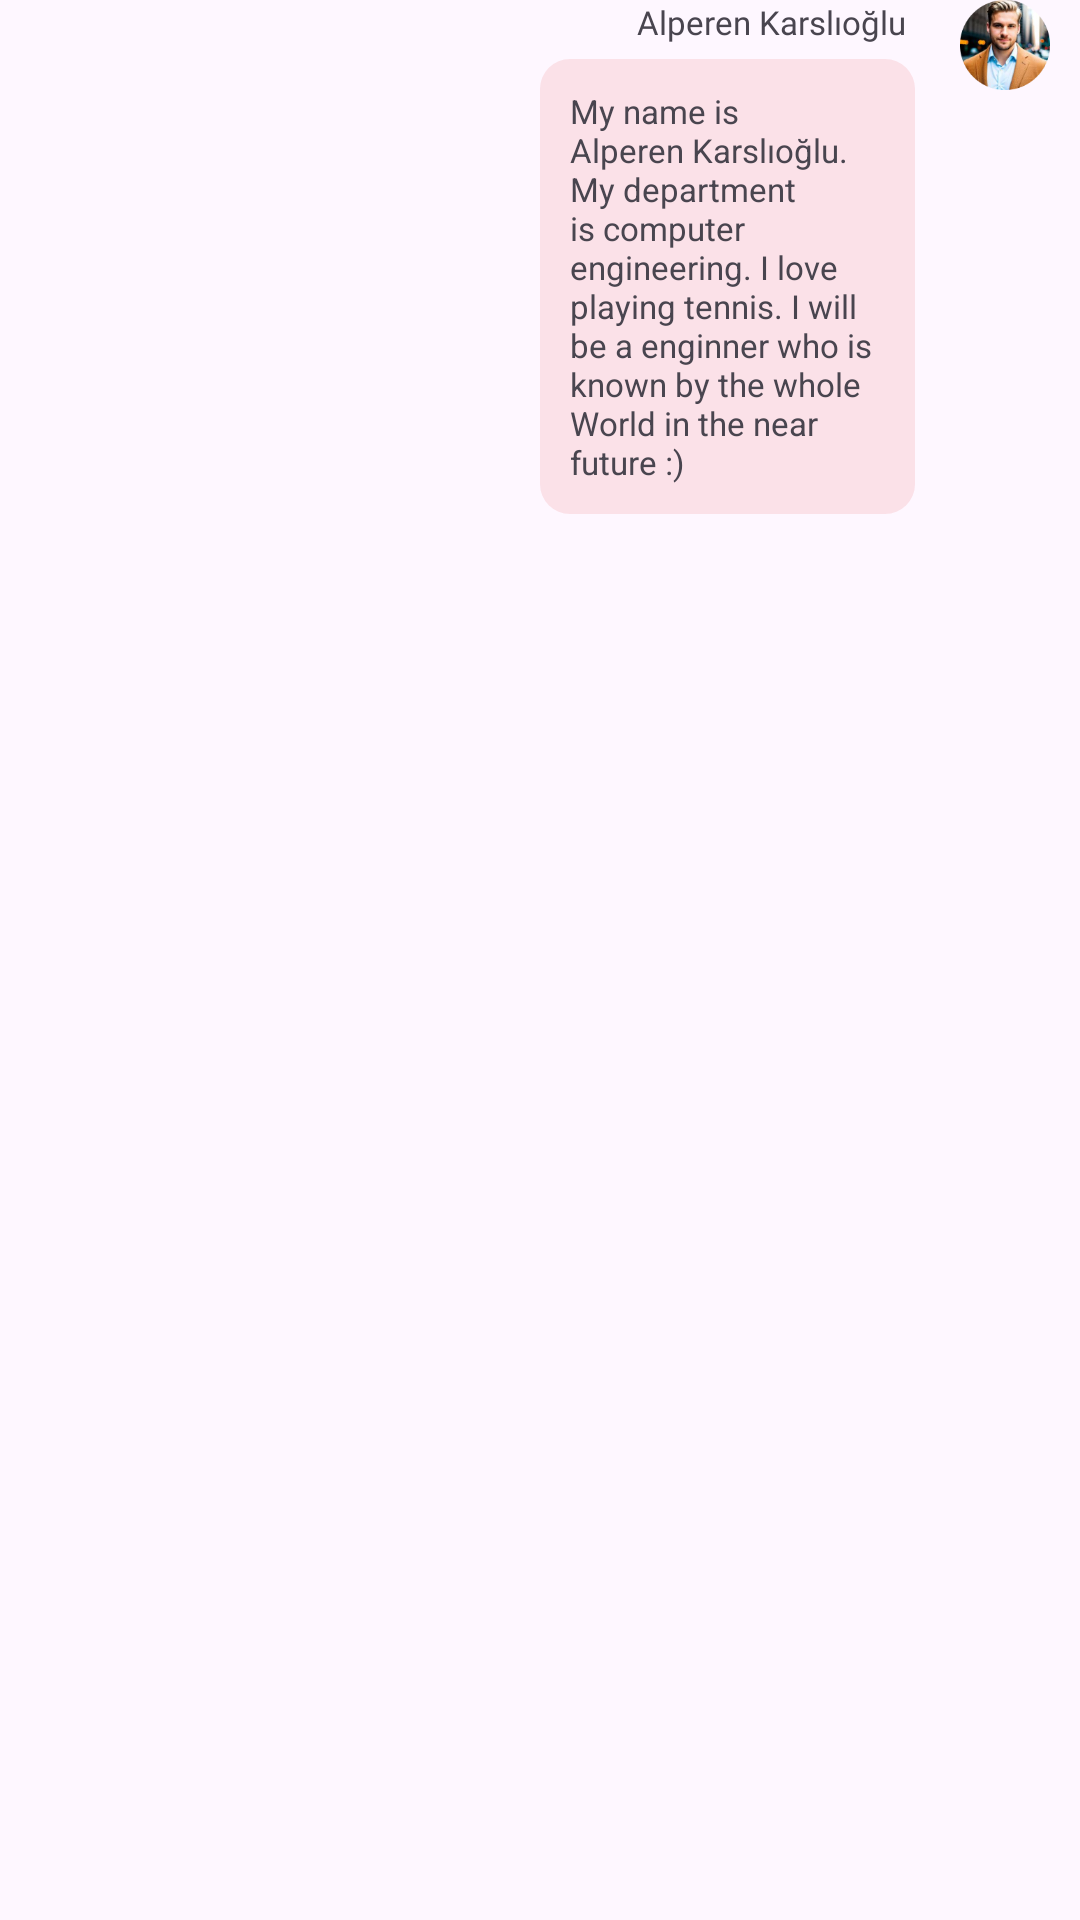

Locate icon controls on the screen. Image size 1080px×1920px, boxes as bbox(x1, y1, x2, y2).
profile photo: bbox(960, 0, 1050, 90)
